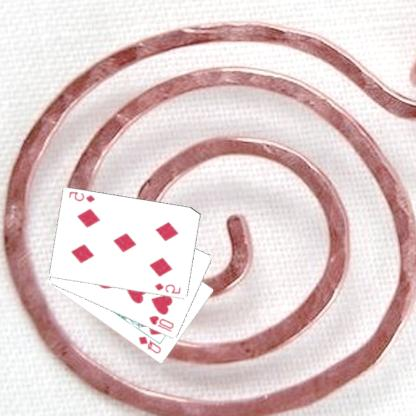10H: (148, 313, 177, 333)
5D: (154, 280, 184, 296), (68, 189, 98, 204)
QD: (138, 334, 164, 356)
